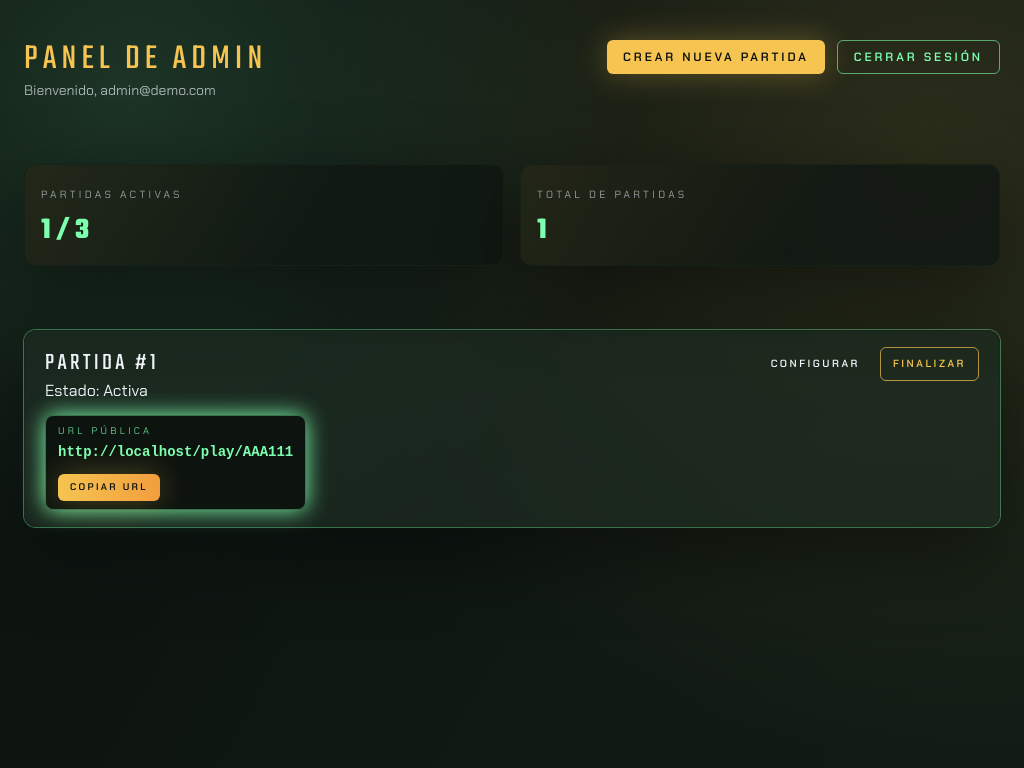
Test: AdminDashboard › crea una partida y recarga la lista
Check: the heading "Partida #1" is shown, box [45,346,159,380]
Click the button "Crear nueva partida": click(716, 57) [607,40,825,74]
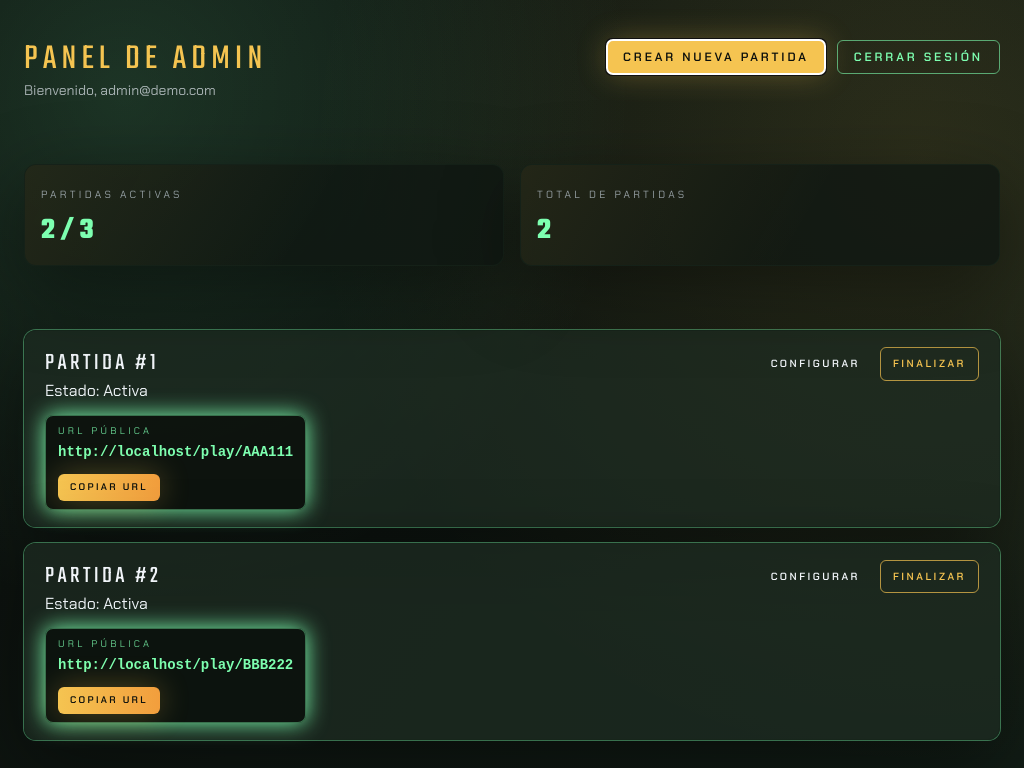
Check: the heading "Partida #2" is shown, box [45,559,161,593]
